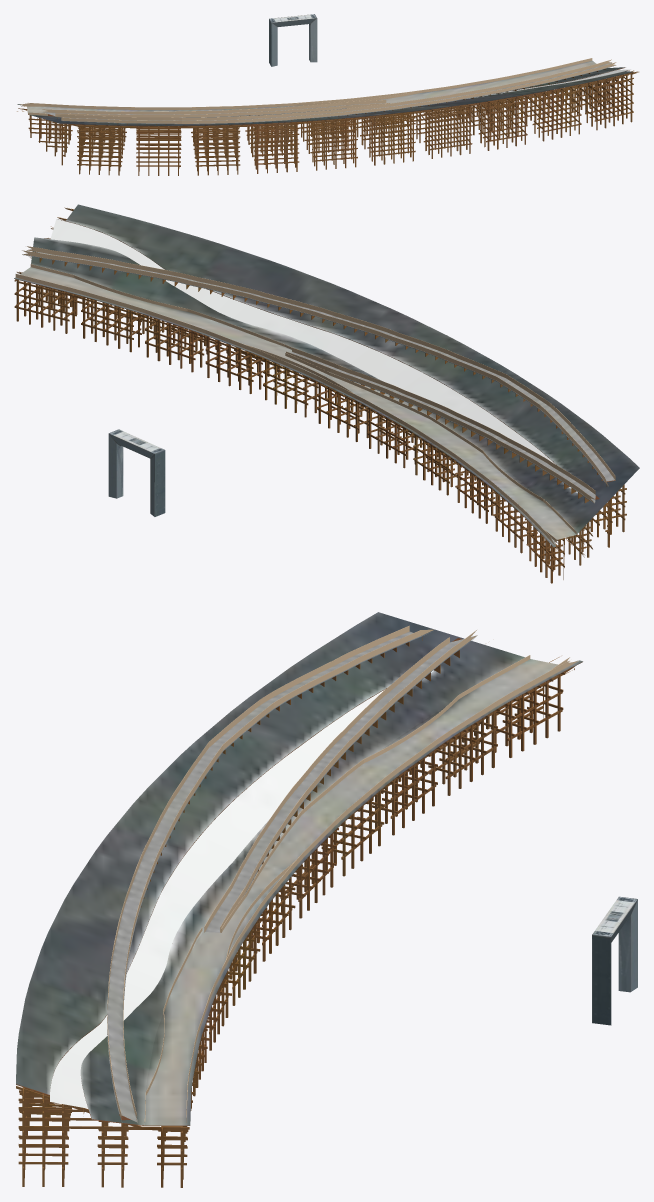
The picture shows the model from 3 angles, top to bottom: view 1: azimuth 30°, elevation 25°; view 2: azimuth 150°, elevation 25°; view 3: azimuth 270°, elevation 25°; orthographic projection. The views are drawn at different scales.
Visible parts, largest first — view 1: GrandRoofRing_大屋根リング, Facilities_都市設備; view 2: GrandRoofRing_大屋根リング, Facilities_都市設備; view 3: GrandRoofRing_大屋根リング, Facilities_都市設備.
Boxes of the visible parts, left/top/right/bottom form: GrandRoofRing_大屋根リング: left=17, top=58, right=638, bottom=175; Facilities_都市設備: left=269, top=14, right=317, bottom=66; GrandRoofRing_大屋根リング: left=14, top=204, right=639, bottom=583; Facilities_都市設備: left=108, top=429, right=165, bottom=516; GrandRoofRing_大屋根リング: left=16, top=612, right=582, bottom=1187; Facilities_都市設備: left=592, top=896, right=637, bottom=1025.
Bounding box in the file's own units: 210 × 22.18 × 113.
Materials: 5 (3 with a texture image).
